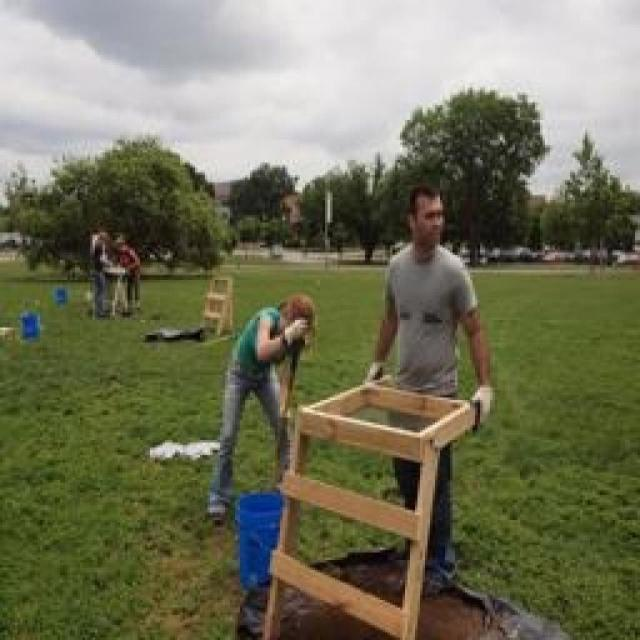Helmet: (213, 301, 295, 425), (385, 170, 465, 255), (274, 278, 338, 368)
